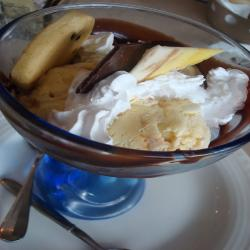chantilly: (73, 66, 241, 142)
icecream: (104, 91, 218, 174)
